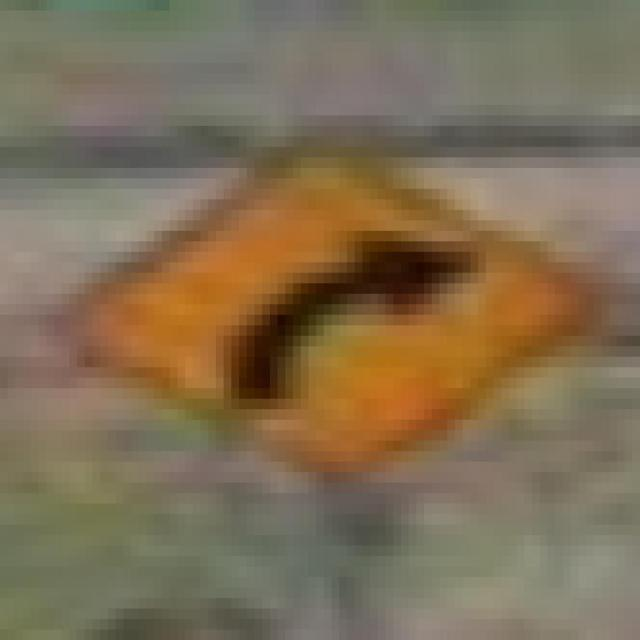Tikungan Ke Kanan: (23, 105, 610, 493)
